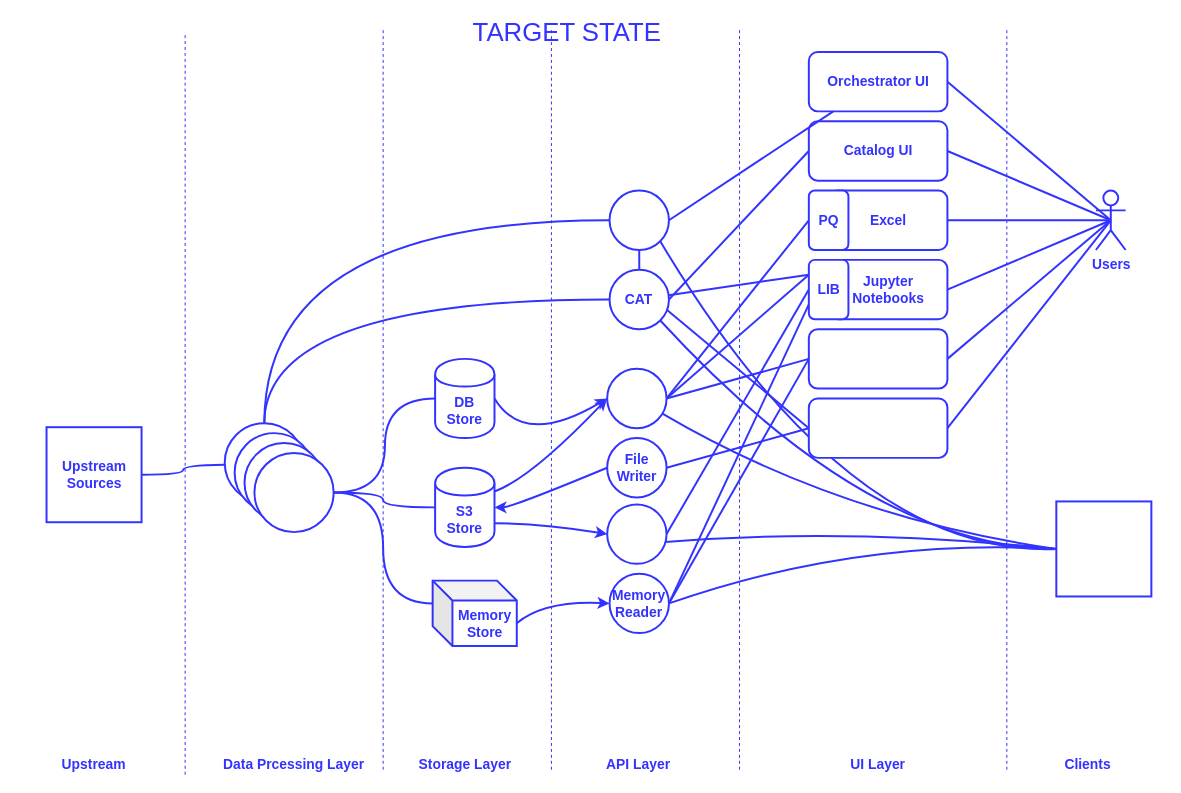
Some shapes in this 1181 by 793 pixel diagram are drawn without their labels. The centre of each missing label's shape, as x and y in pixels:
Data Processing Functions: the point at 293,492
Data Upload UI: the point at 877,427
Downstream Systems: the point at 1103,548
File Reader: the point at 636,533
Format Reader: the point at 636,398
Interactive Visualization UI: the point at 877,358
ORCH: the point at 638,219
